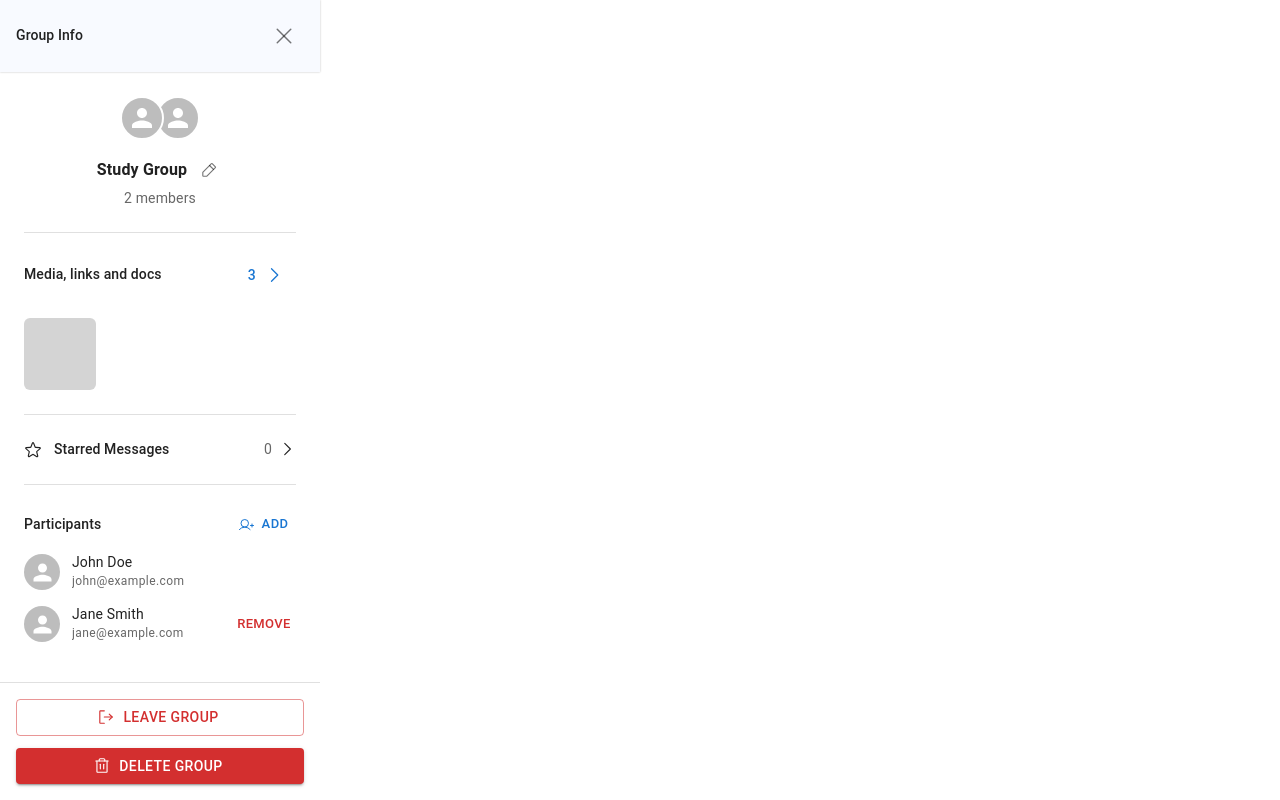
Scenario: GroupInfo › opens add participants dialog for group creator
Click the button "Add". click: [264, 525]
box: x1=232 y1=510 x2=296 y2=540
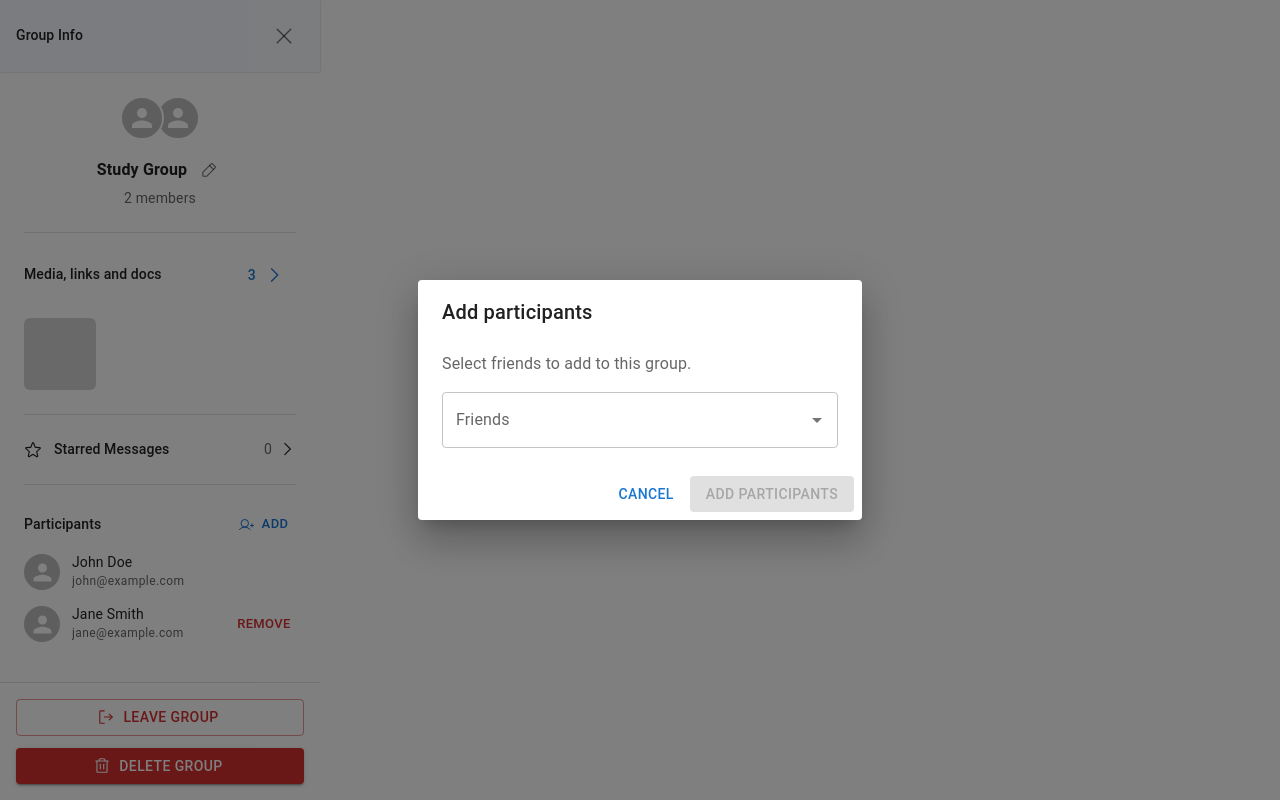
Result: the heading "Add participants" is shown at x1=442 y1=300 x2=592 y2=324
Result: the dropdown labelled "Friends" is shown at x1=451 y1=401 x2=799 y2=439
